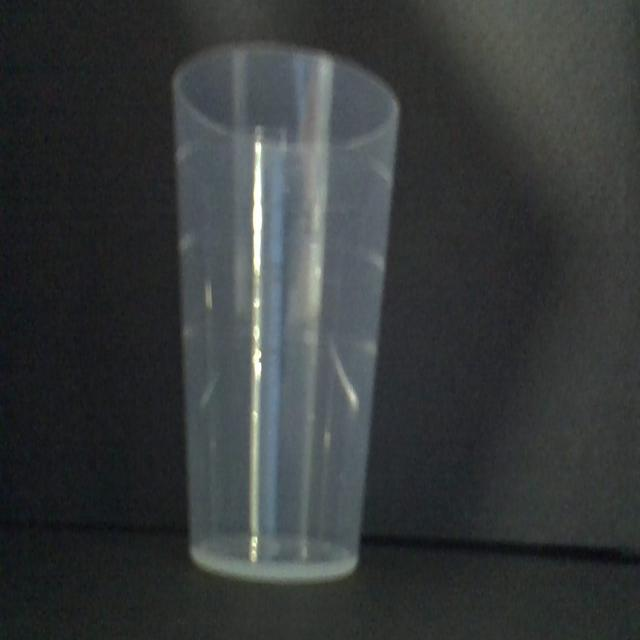cup: (168, 42, 397, 586)
